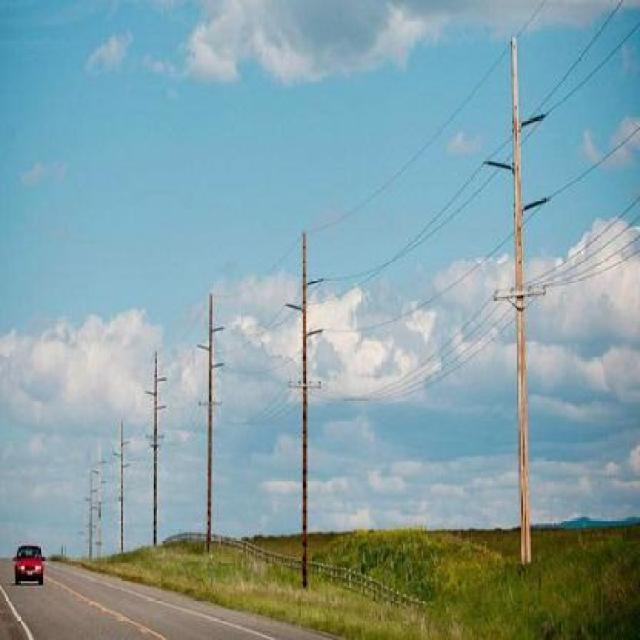light_pole: (473, 28, 581, 576), (276, 216, 348, 588), (180, 263, 235, 576), (133, 326, 172, 556)
